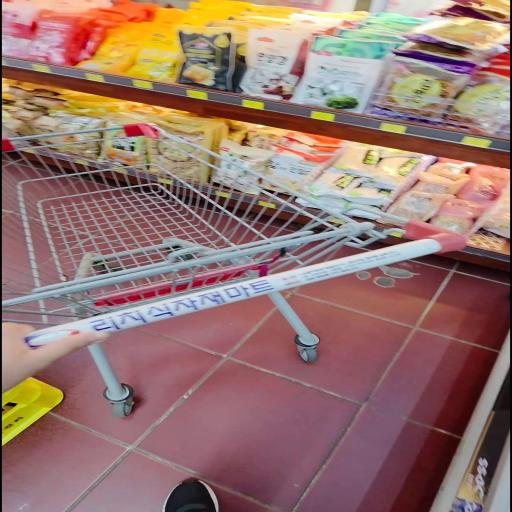empty_cart: (5, 124, 464, 413)
